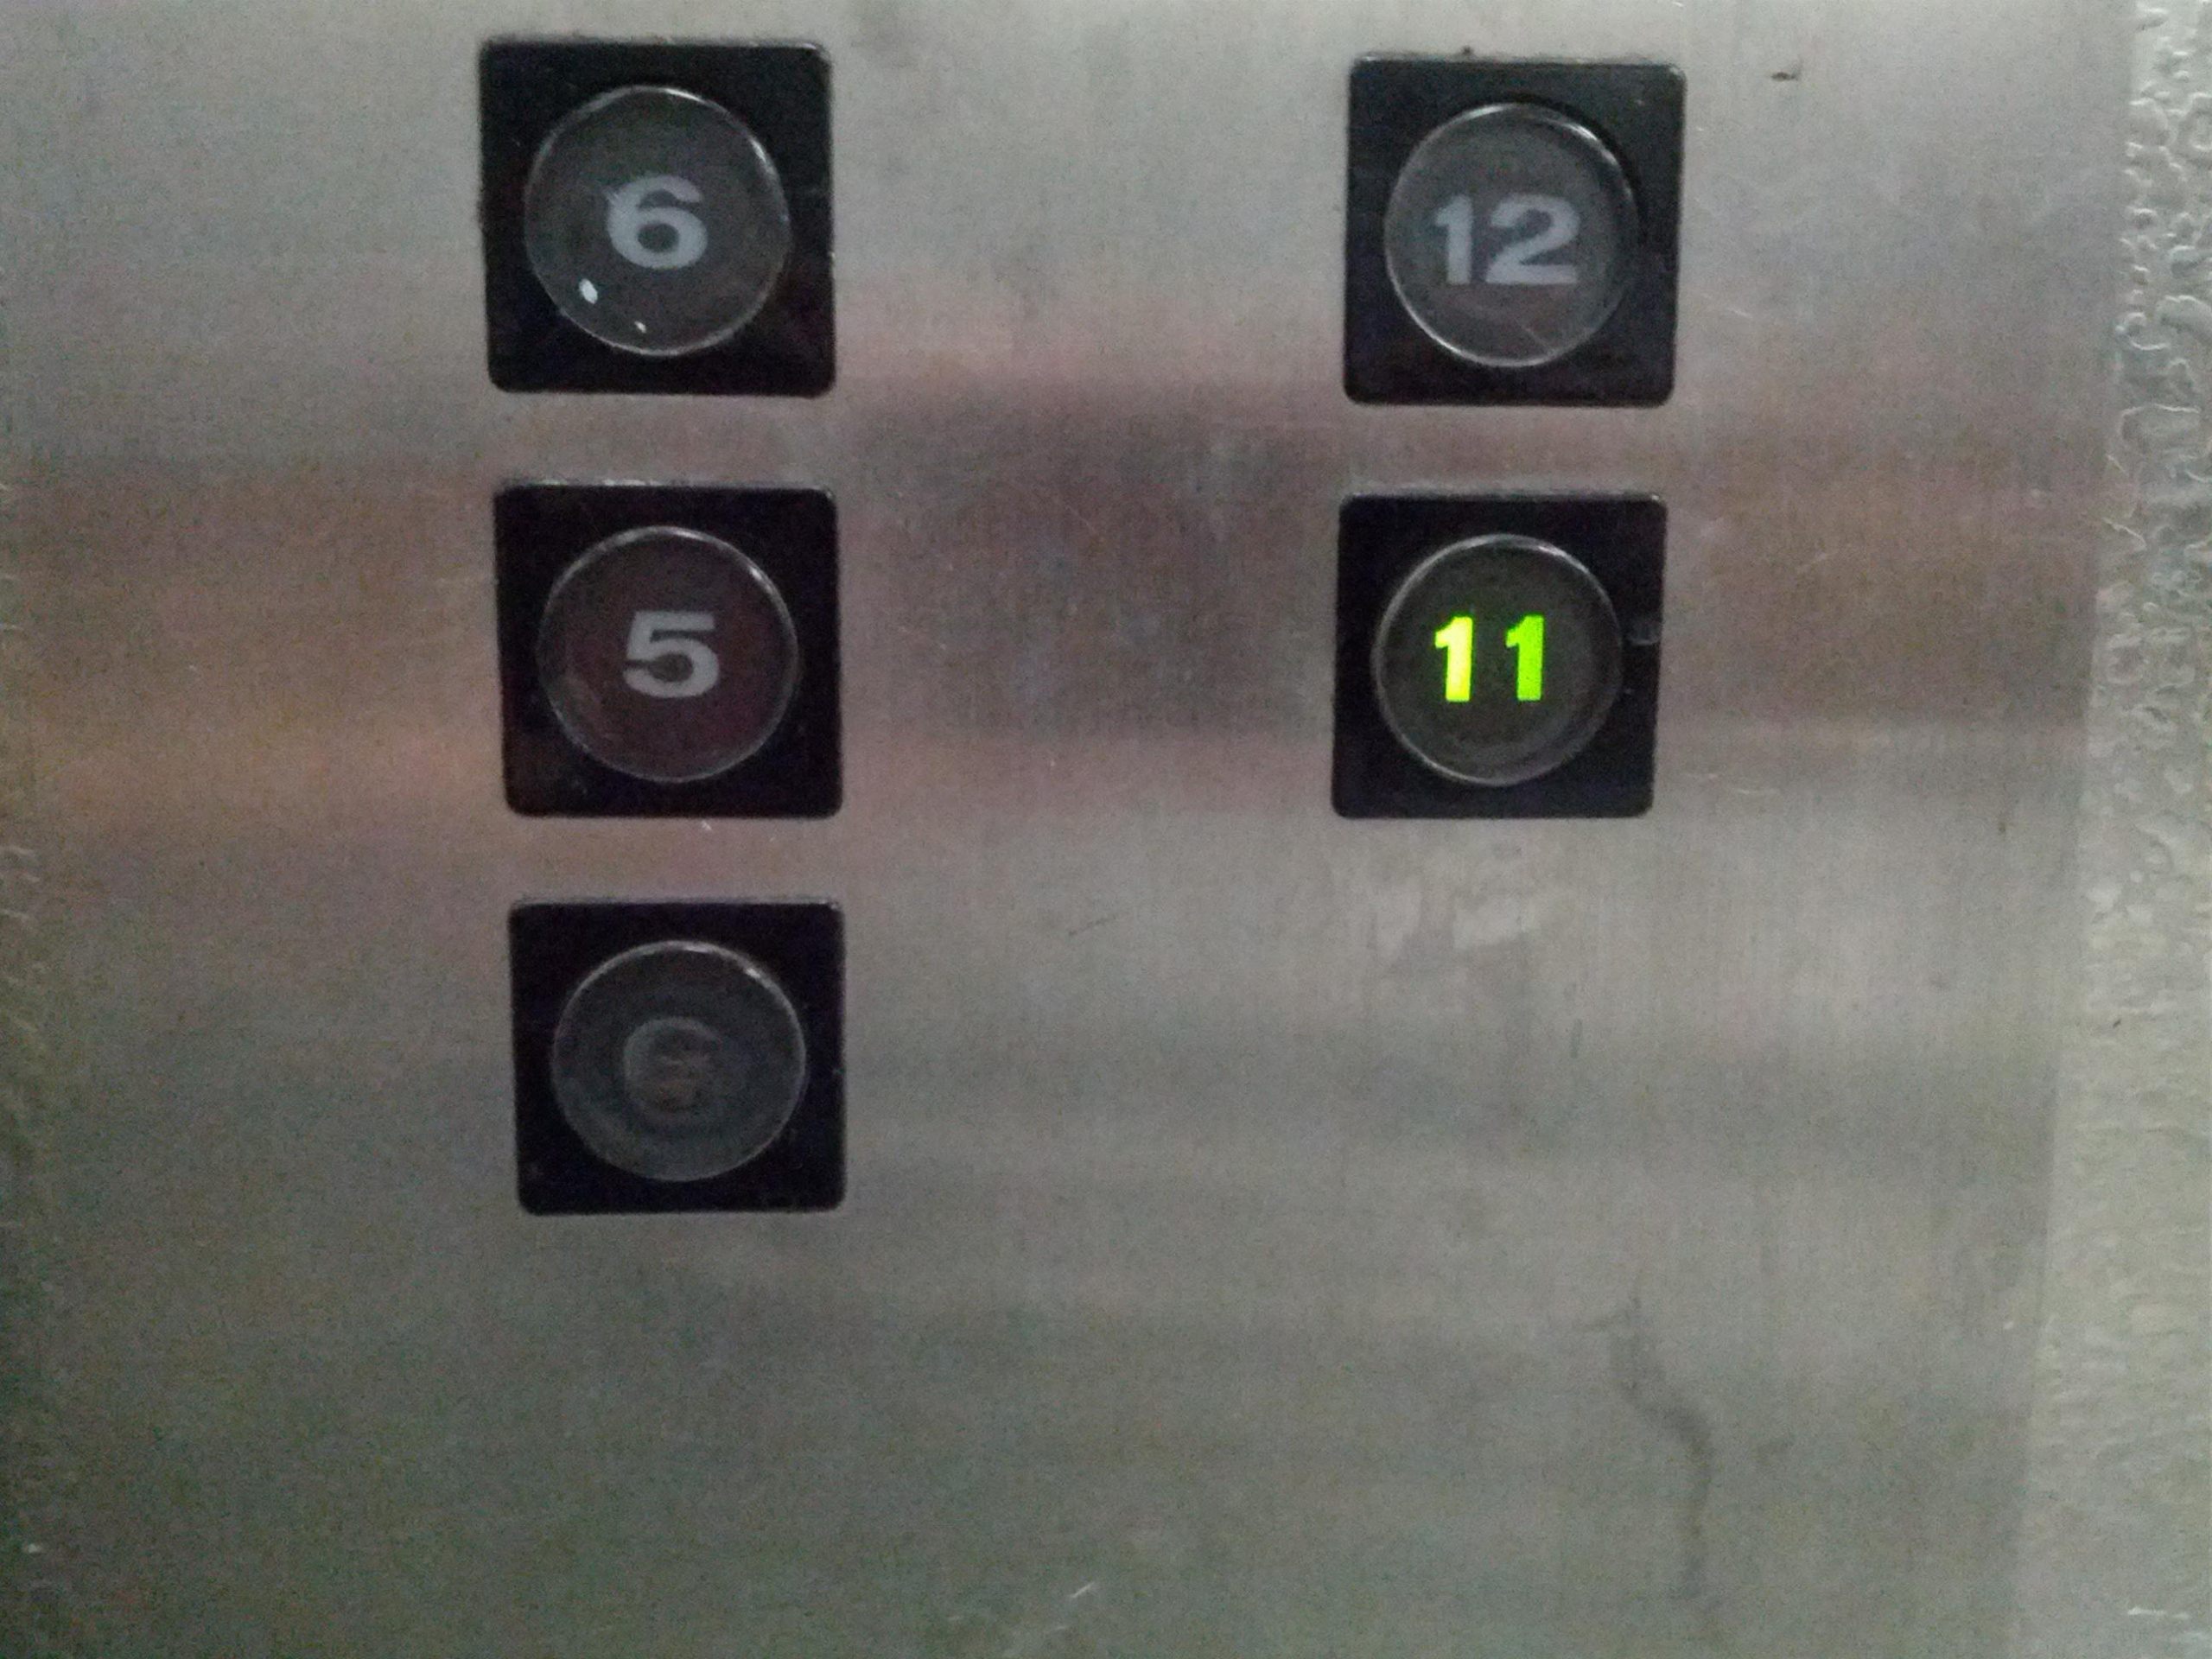11: (1322, 477, 1672, 831)
12: (1334, 44, 1691, 420)
5: (477, 469, 855, 843)
6: (472, 31, 848, 406)
G: (486, 882, 855, 1227)
